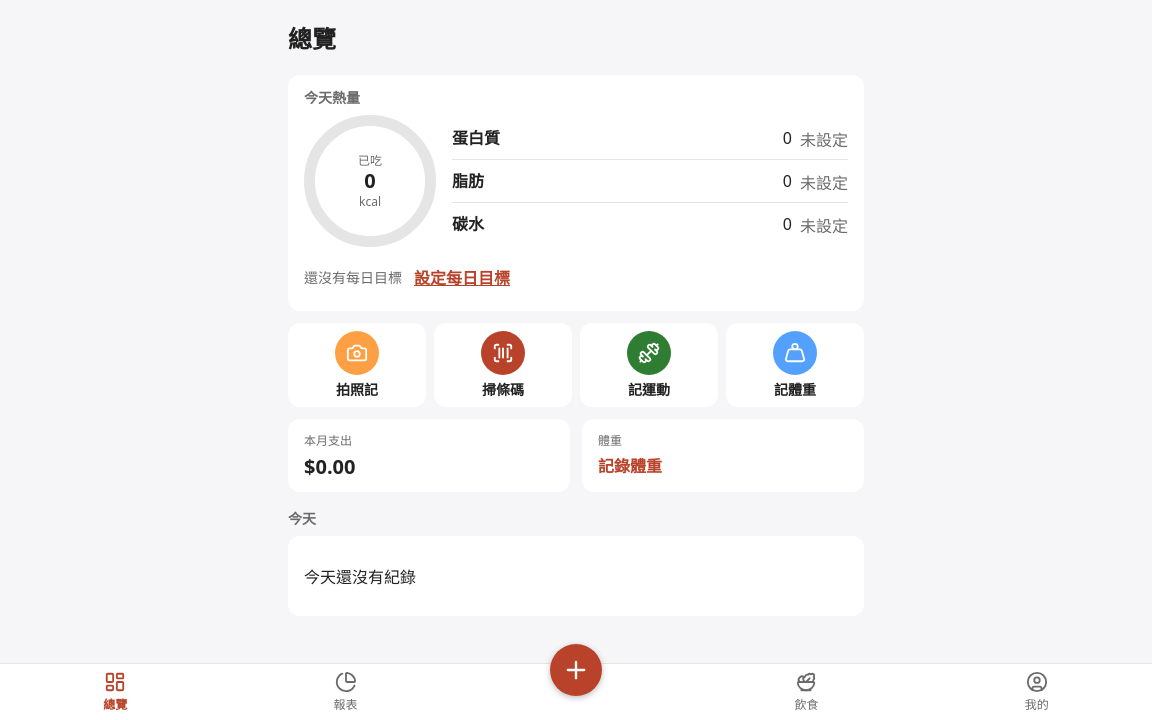
Test: App › 記帳畫面不顯示分頁列，關閉回到總覽後分頁列回來
Check: the heading "總覽" is shown, box [288,22,336,55]
Check: the navigation bar named "主要導覽" is shown, box [0,663,1151,719]
Click the button named "新增紀錄": (576, 670) [550,644,602,696]
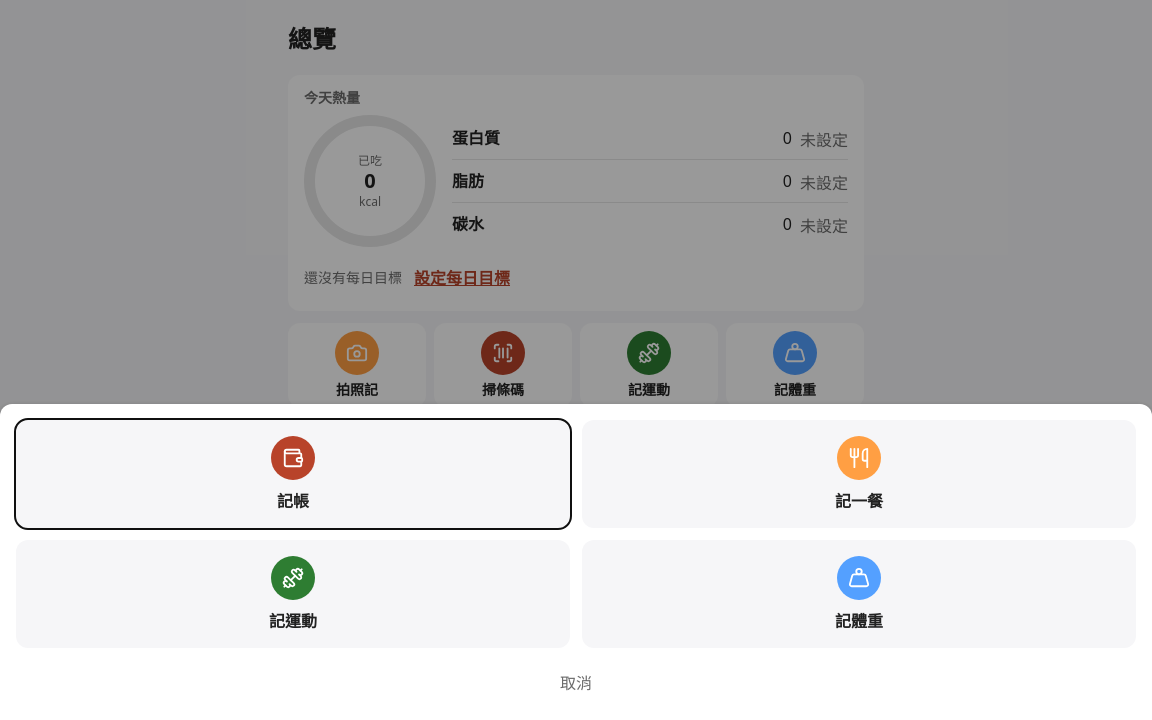
Click the link "記帳": (293, 474) [16,420,570,528]
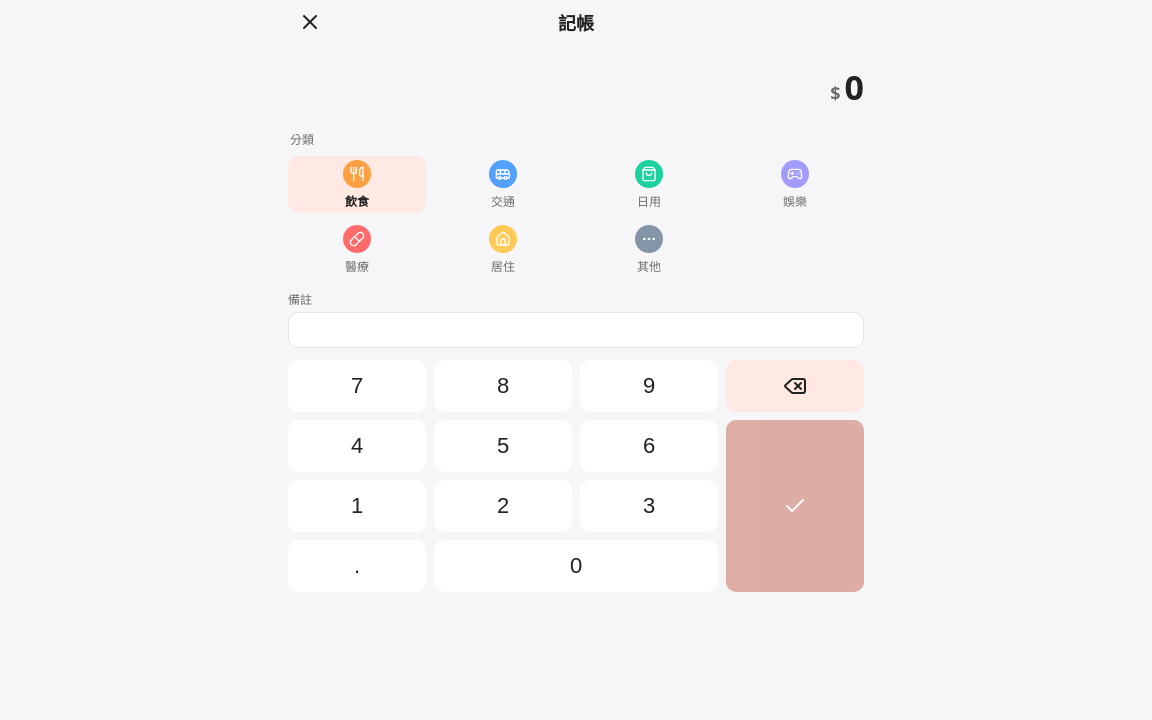
Check: the button named "記一筆" is shown, box [726,420,864,592]
Check: the navigation bar "主要導覽" is gone
Click the button named "關閉": (310, 22) [288,0,332,44]
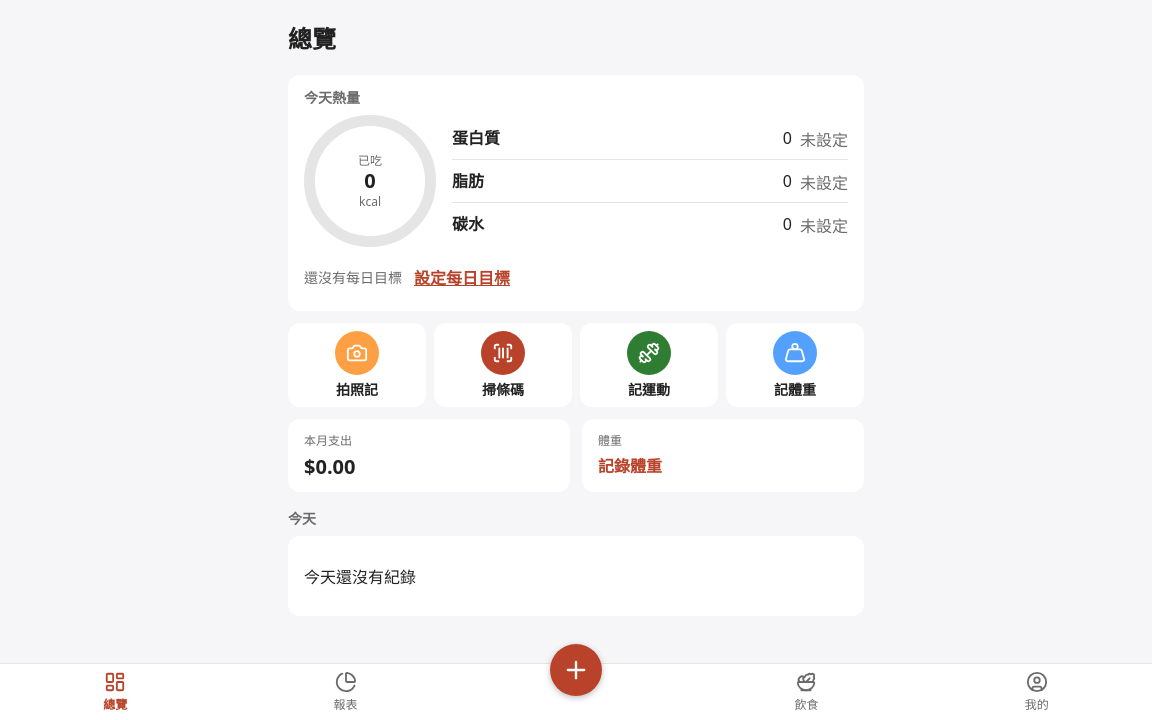
Check: the heading "總覽" is shown, box [288,22,336,55]
Check: the navigation bar named "主要導覽" is shown, box [0,663,1151,719]
